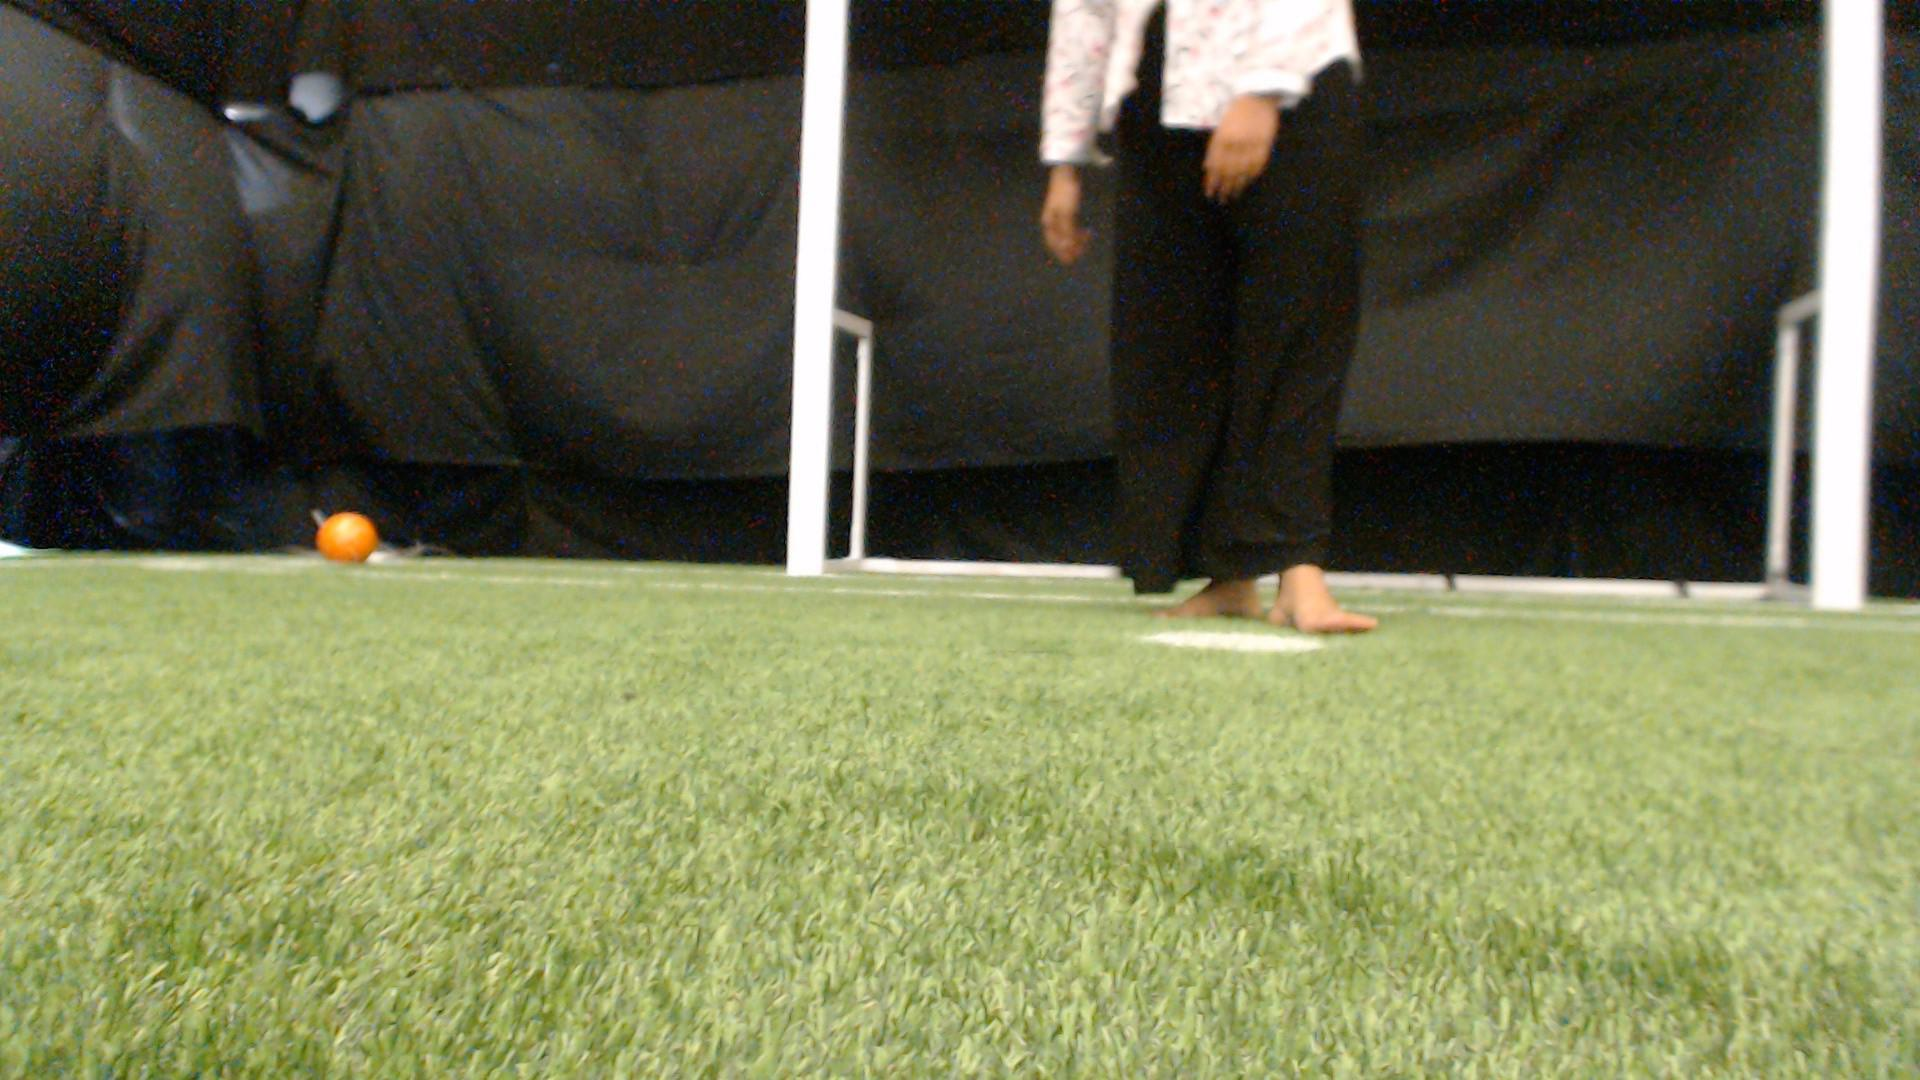bola: (301, 509, 390, 582)
